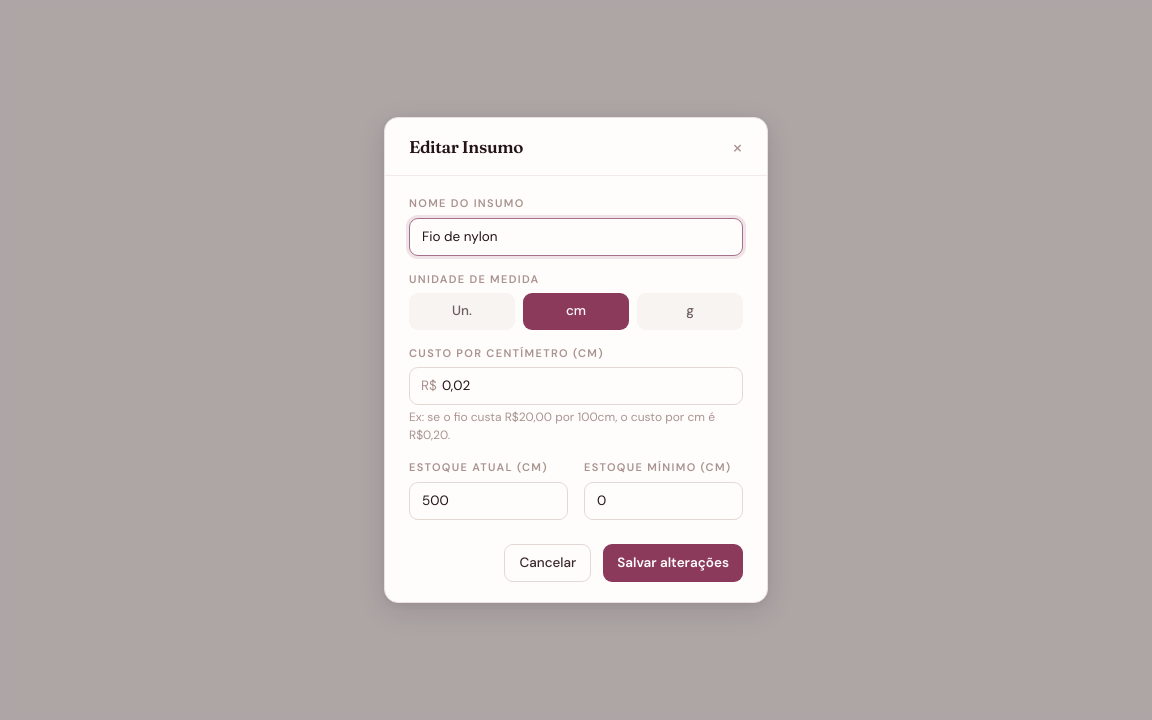
InsumoForm: unidade de medida › should_let_the_unit_change_when_no_recipe_uses_the_insumo
The image size is (1152, 720).
Click the button "g".
click(690, 312)  # box [637,294,743,330]
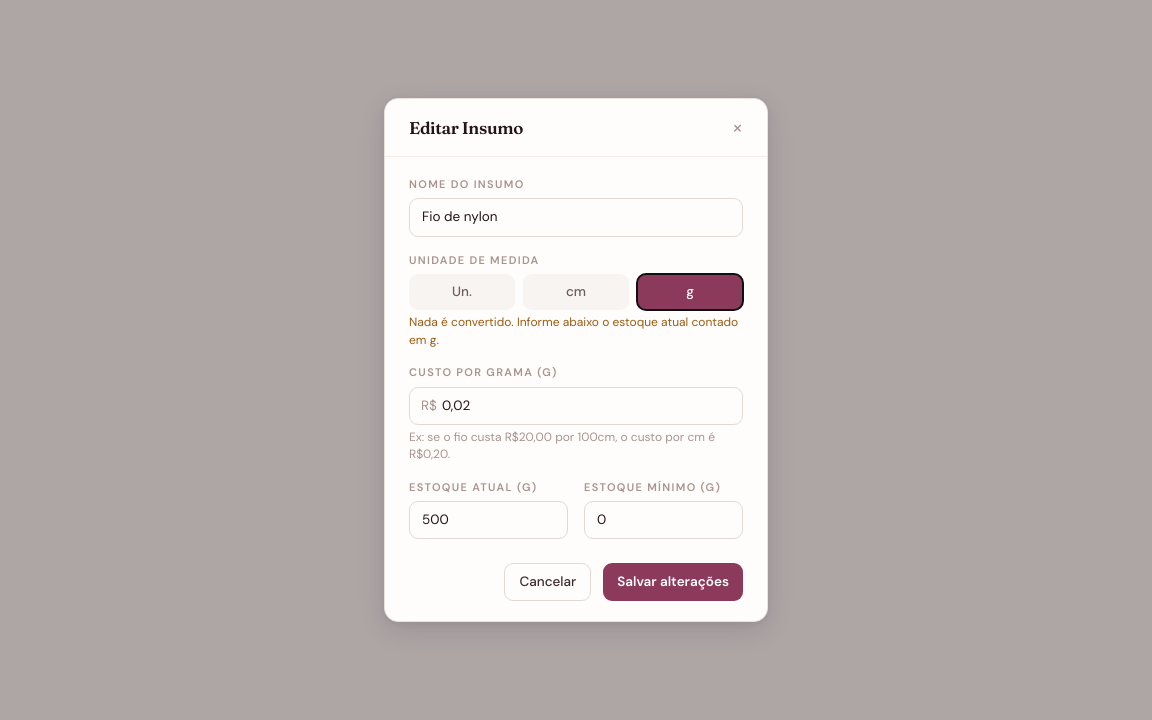
Now the text "Nada é convertido" is shown, box [409,314,738,348]
